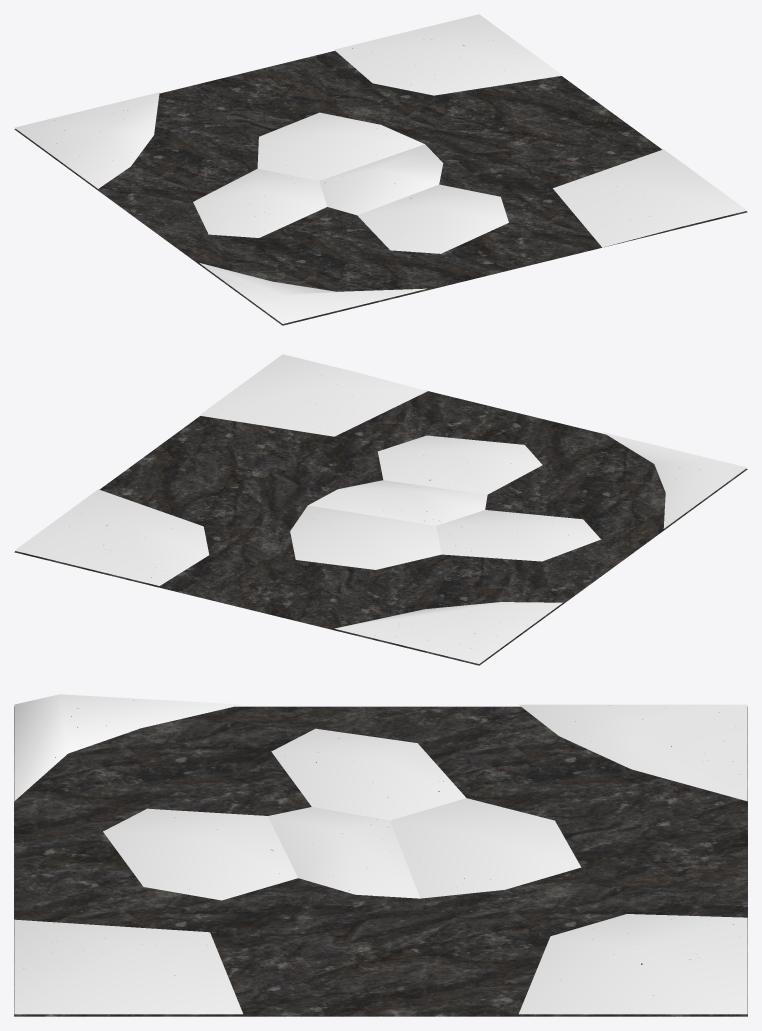
Rendered from Garden_03_Art.glb.
The picture shows the model from 3 angles, top to bottom: view 1: azimuth 30°, elevation 25°; view 2: azimuth 150°, elevation 25°; view 3: azimuth 270°, elevation 25°; orthographic projection. The views are drawn at different scales.
Parts seen in each view (by area): view 1: Garden_03_Art; view 2: Garden_03_Art; view 3: Garden_03_Art.
Boxes of the visible parts, x1,y1,x2,y2 form: Garden_03_Art: (14,14,747,325); Garden_03_Art: (14,354,747,665); Garden_03_Art: (14,694,747,1016).
Size of the model in its own units: 15.98 by 0.5007 by 15.98.
2 materials, 2 textured.
